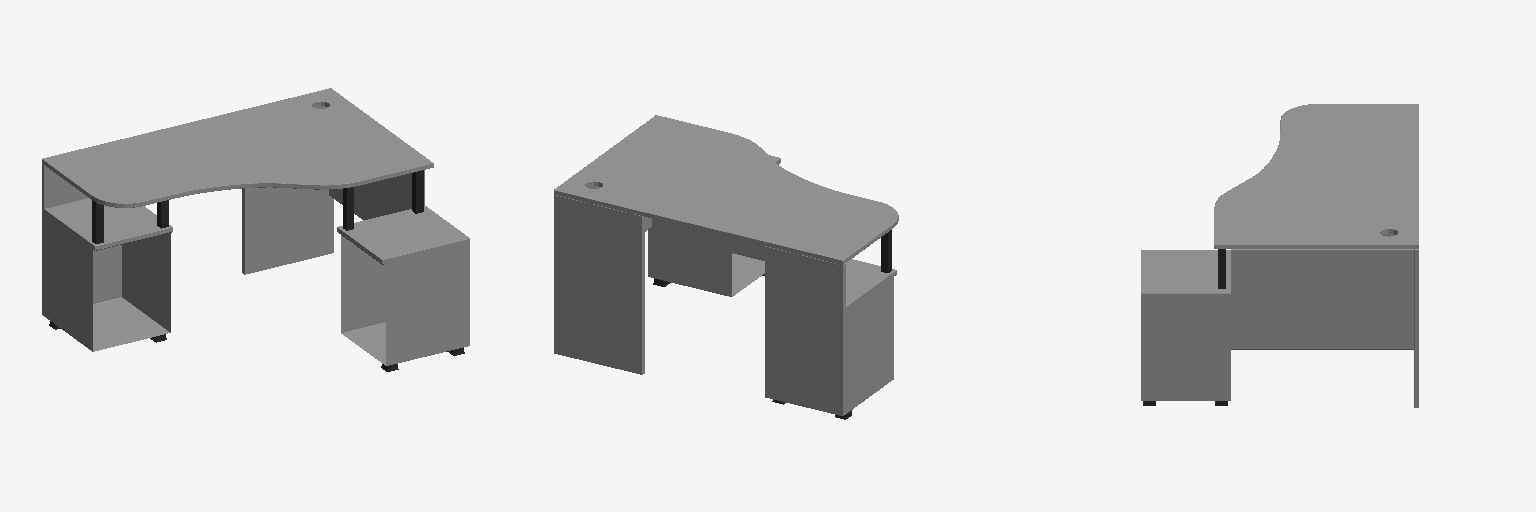
3 views of the same model, side by side, from view 1: azimuth 30°, elevation 25°; view 2: azimuth 150°, elevation 25°; view 3: azimuth 270°, elevation 25° (orthographic).
Parts seen in each view (by area): view 1: Part1; view 2: Part1; view 3: Part1.
Boxes of the visible parts, <box> form: Part1: <box>42,88,469,371</box>; Part1: <box>554,115,898,419</box>; Part1: <box>1141,104,1418,407</box>.
Size of the model in its own units: 1.44 by 0.776 by 1.2.
3 materials, 1 textured.